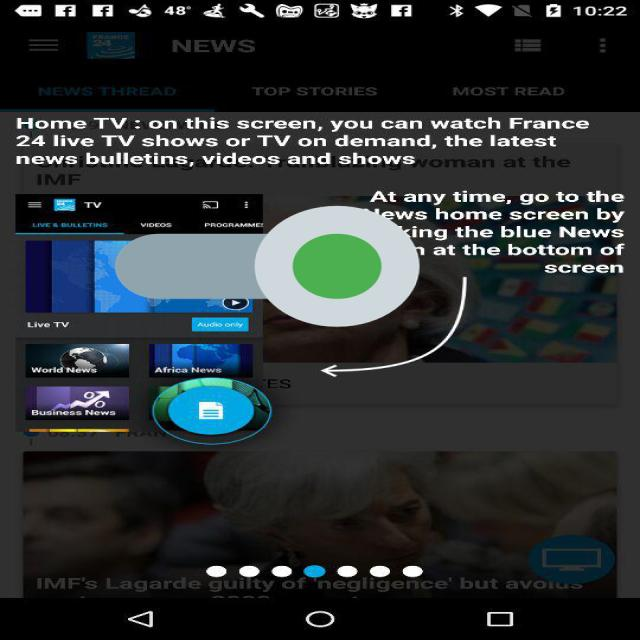social proof: (115, 155, 420, 378)
